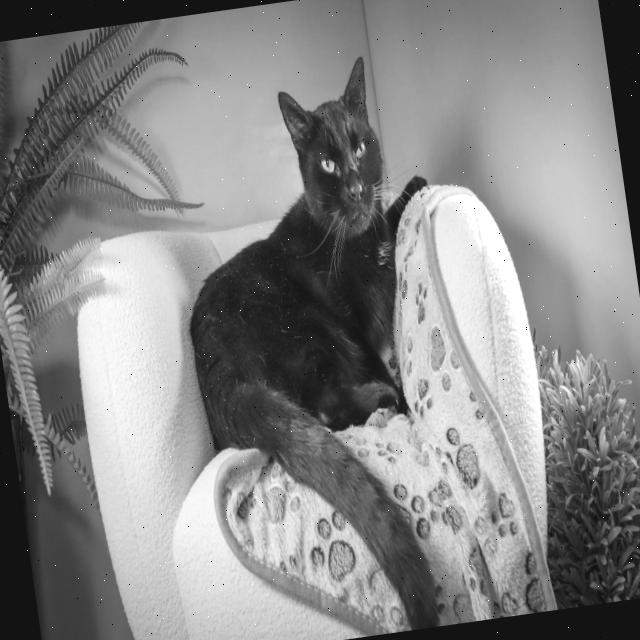bombay_cat: (268, 46, 408, 273)
